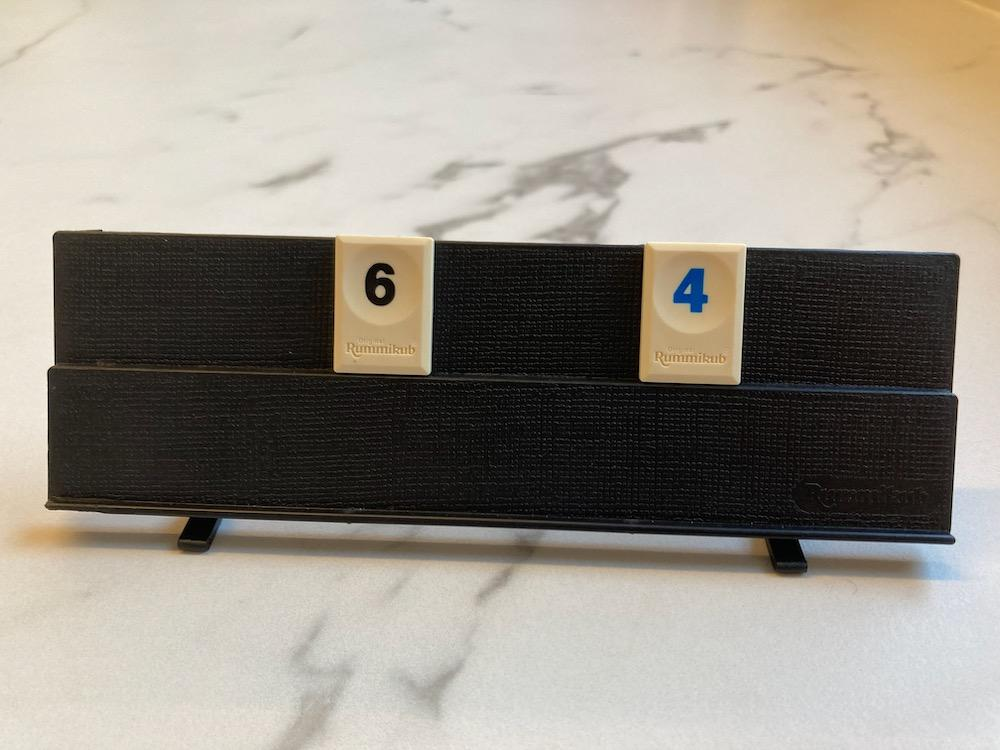black_6: (334, 236, 434, 375)
blue_4: (639, 242, 746, 385)
